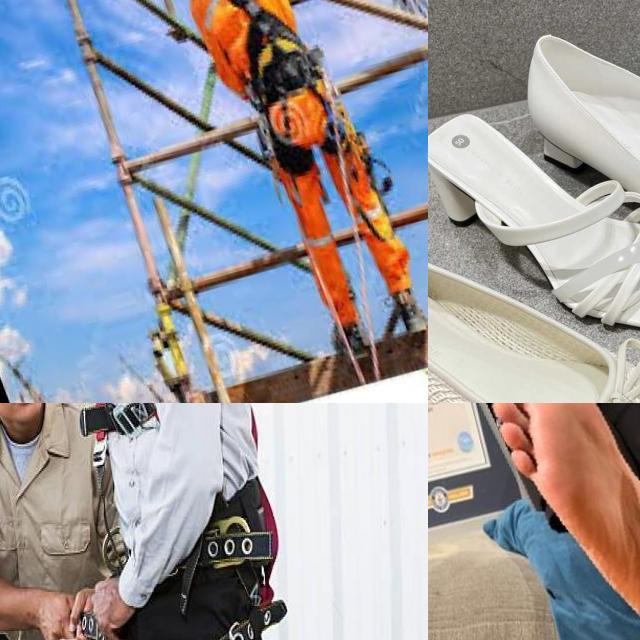Barefoots: (468, 403, 640, 640)
Harness: (176, 479, 288, 640), (228, 0, 320, 112), (81, 403, 160, 436)
Sandals: (428, 92, 640, 345), (428, 210, 640, 403), (522, 10, 640, 269)
